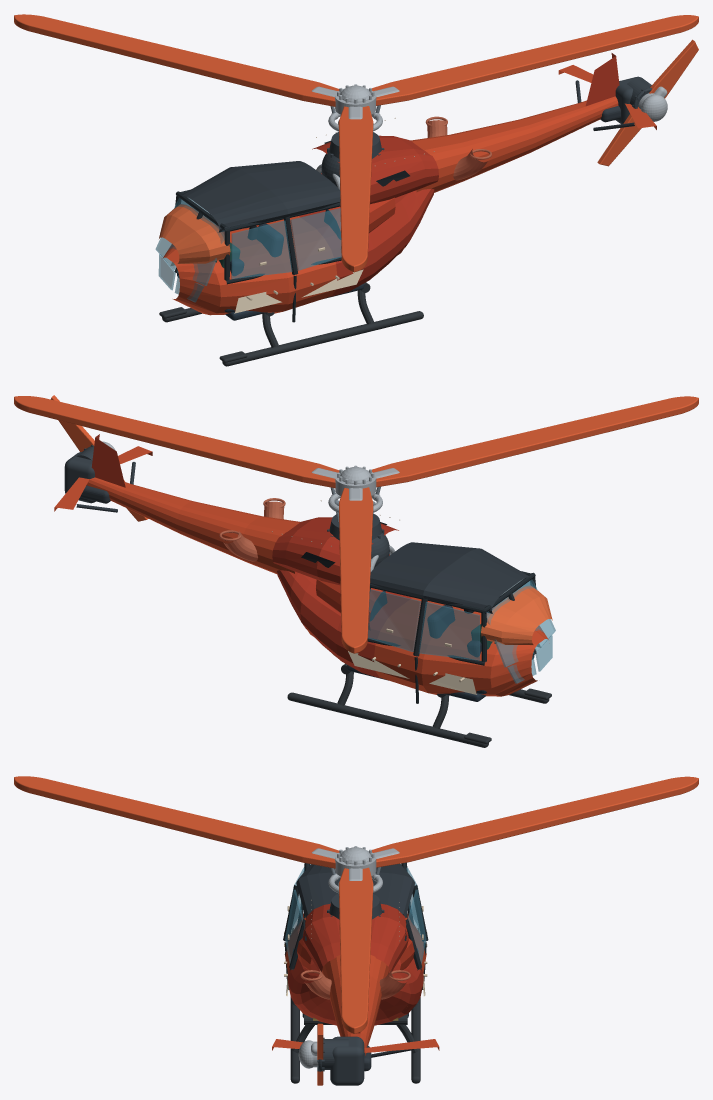
File: turboshaft_helicopter.glb
The picture shows the model from 3 angles, top to bottom: view 1: azimuth 30°, elevation 25°; view 2: azimuth 150°, elevation 25°; view 3: azimuth 270°, elevation 25°; orthographic projection.
Visible parts, largest first — view 1: airframe_shell, main_rotor_blades, cockpit_glazing, landing_skids, tail_rotor_blades, cabin_and_seats, rotor_hub, exhaust, tail_gearbox, main_transmission, tail_rotor_hub; view 2: airframe_shell, main_rotor_blades, cockpit_glazing, landing_skids, cabin_and_seats, rotor_hub, exhaust, tail_gearbox, main_transmission, tail_rotor_blades; view 3: main_rotor_blades, airframe_shell, landing_skids, tail_gearbox, cockpit_glazing, rotor_hub, exhaust, tail_rotor_hub.
Part boxes in pixels (bbox=[...]): airframe_shell: bbox=[159, 53, 656, 322]; main_rotor_blades: bbox=[14, 14, 698, 272]; cockpit_glazing: bbox=[155, 198, 341, 302]; landing_skids: bbox=[159, 282, 423, 366]; tail_rotor_blades: bbox=[597, 39, 698, 166]; cabin_and_seats: bbox=[177, 209, 364, 320]; rotor_hub: bbox=[312, 84, 399, 119]; exhaust: bbox=[425, 116, 491, 180]; tail_gearbox: bbox=[615, 76, 651, 124]; main_transmission: bbox=[321, 132, 384, 186]; tail_rotor_hub: bbox=[638, 86, 667, 121]; airframe_shell: bbox=[54, 434, 552, 703]; main_rotor_blades: bbox=[14, 396, 698, 653]; cockpit_glazing: bbox=[368, 579, 555, 683]; landing_skids: bbox=[287, 663, 551, 747]; cabin_and_seats: bbox=[347, 590, 534, 701]; rotor_hub: bbox=[311, 465, 399, 500]; exhaust: bbox=[219, 498, 285, 561]; tail_gearbox: bbox=[64, 445, 95, 503]; main_transmission: bbox=[327, 513, 389, 568]; tail_rotor_blades: bbox=[50, 395, 148, 521]; main_rotor_blades: bbox=[14, 776, 698, 1033]; airframe_shell: bbox=[272, 862, 439, 1071]; landing_skids: bbox=[290, 997, 420, 1083]; tail_gearbox: bbox=[317, 1036, 364, 1085]; cockpit_glazing: bbox=[285, 864, 426, 963]; rotor_hub: bbox=[311, 846, 399, 880]; exhaust: bbox=[300, 969, 410, 999]; tail_rotor_hub: bbox=[298, 1040, 318, 1068].
Size of the model in its own units: 8.61 by 3.38 by 9.65.
